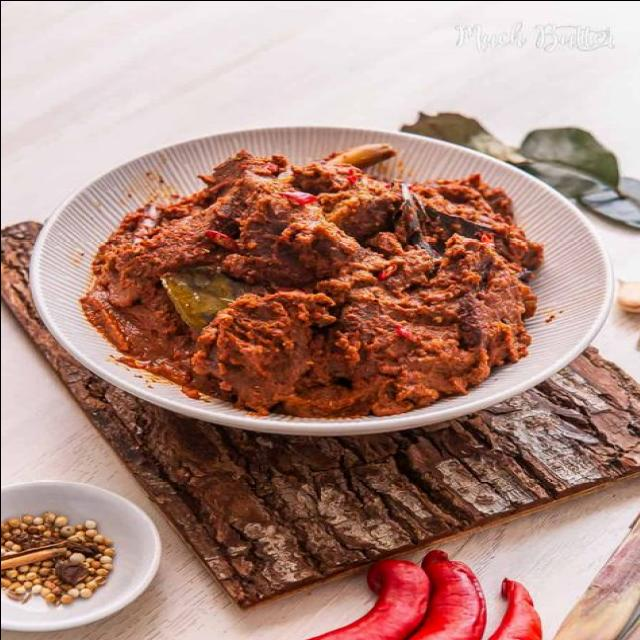rendang: (77, 141, 544, 426)
